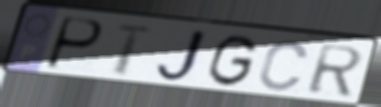C: (256, 39, 312, 93)
G: (205, 33, 260, 89)
J: (152, 27, 211, 86)
P: (42, 15, 107, 73)
R: (304, 43, 366, 98)
T: (112, 22, 155, 78)
